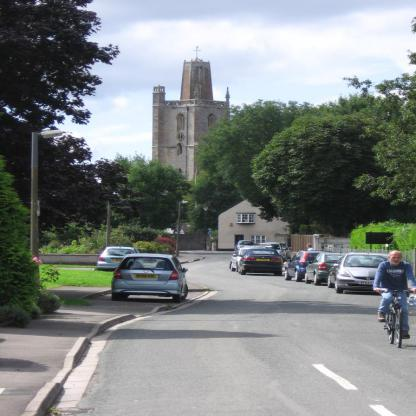Car: (228, 240, 389, 294), (108, 252, 189, 300), (96, 242, 141, 272)
